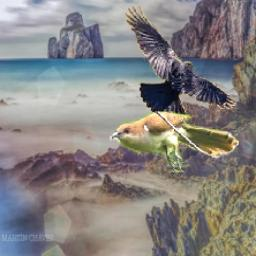Crow: (123, 1, 239, 121)
Cuckoo: (110, 111, 239, 172)
